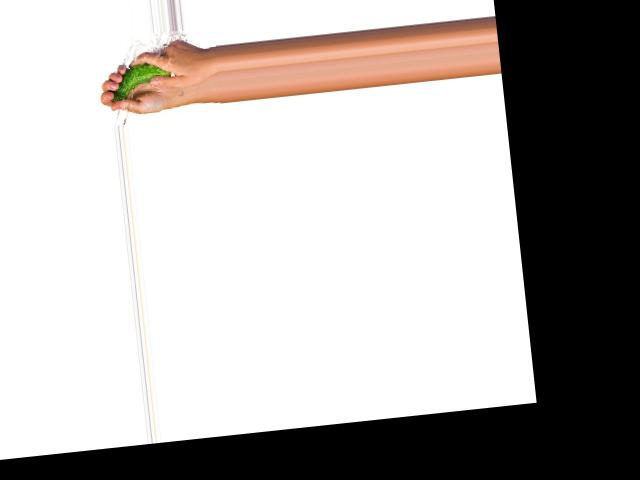cucumber: (108, 59, 174, 101)
